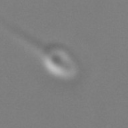normal: (1, 20, 48, 55)
